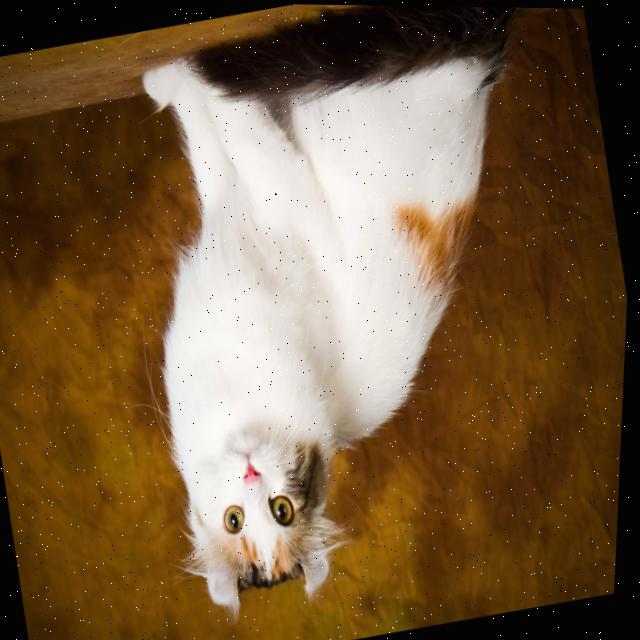American Curl: (84, 1, 625, 630)
